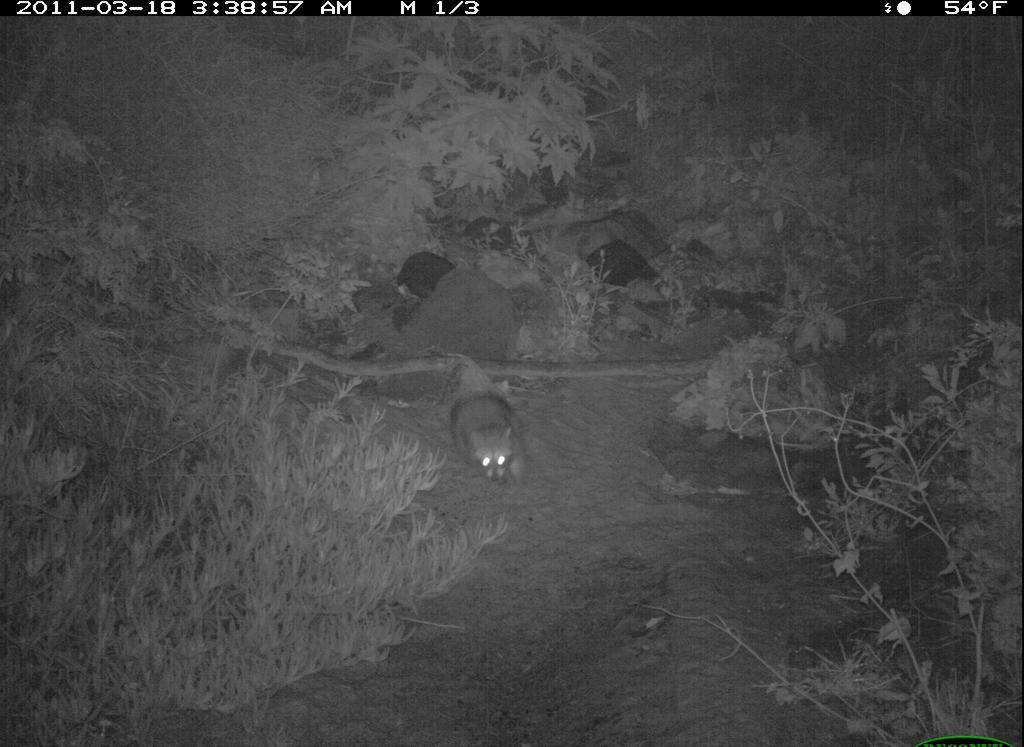raccoon: (425, 364, 533, 486)
